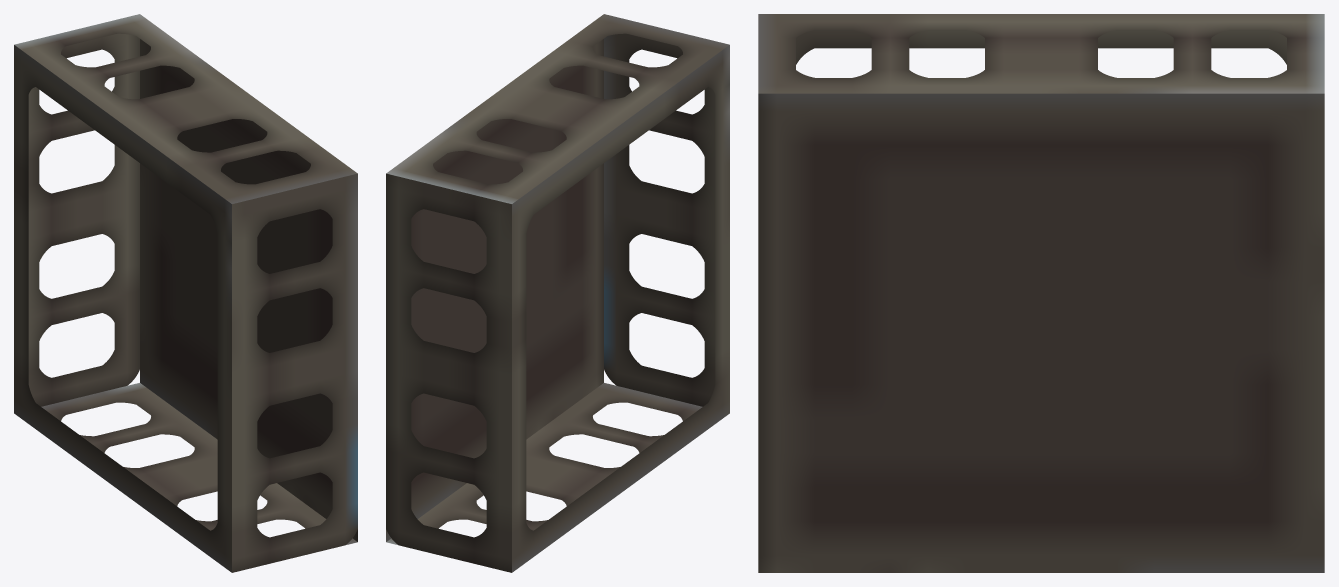
Rendered from tray.fbx.
3 renders of one model, left to right at view 1: azimuth 30°, elevation 25°; view 2: azimuth 150°, elevation 25°; view 3: azimuth 270°, elevation 25°, orthographic. The views are drawn at different scales.
Parts seen in each view (by area): view 1: cube; view 2: cube; view 3: cube.
Part boxes in pixels (<box>): cube: <box>14,14,357,572</box>; cube: <box>386,14,729,572</box>; cube: <box>758,14,1324,572</box>.
Size of the model in its own units: 31.25 by 87.5 by 93.75.
1 material, 1 textured.
